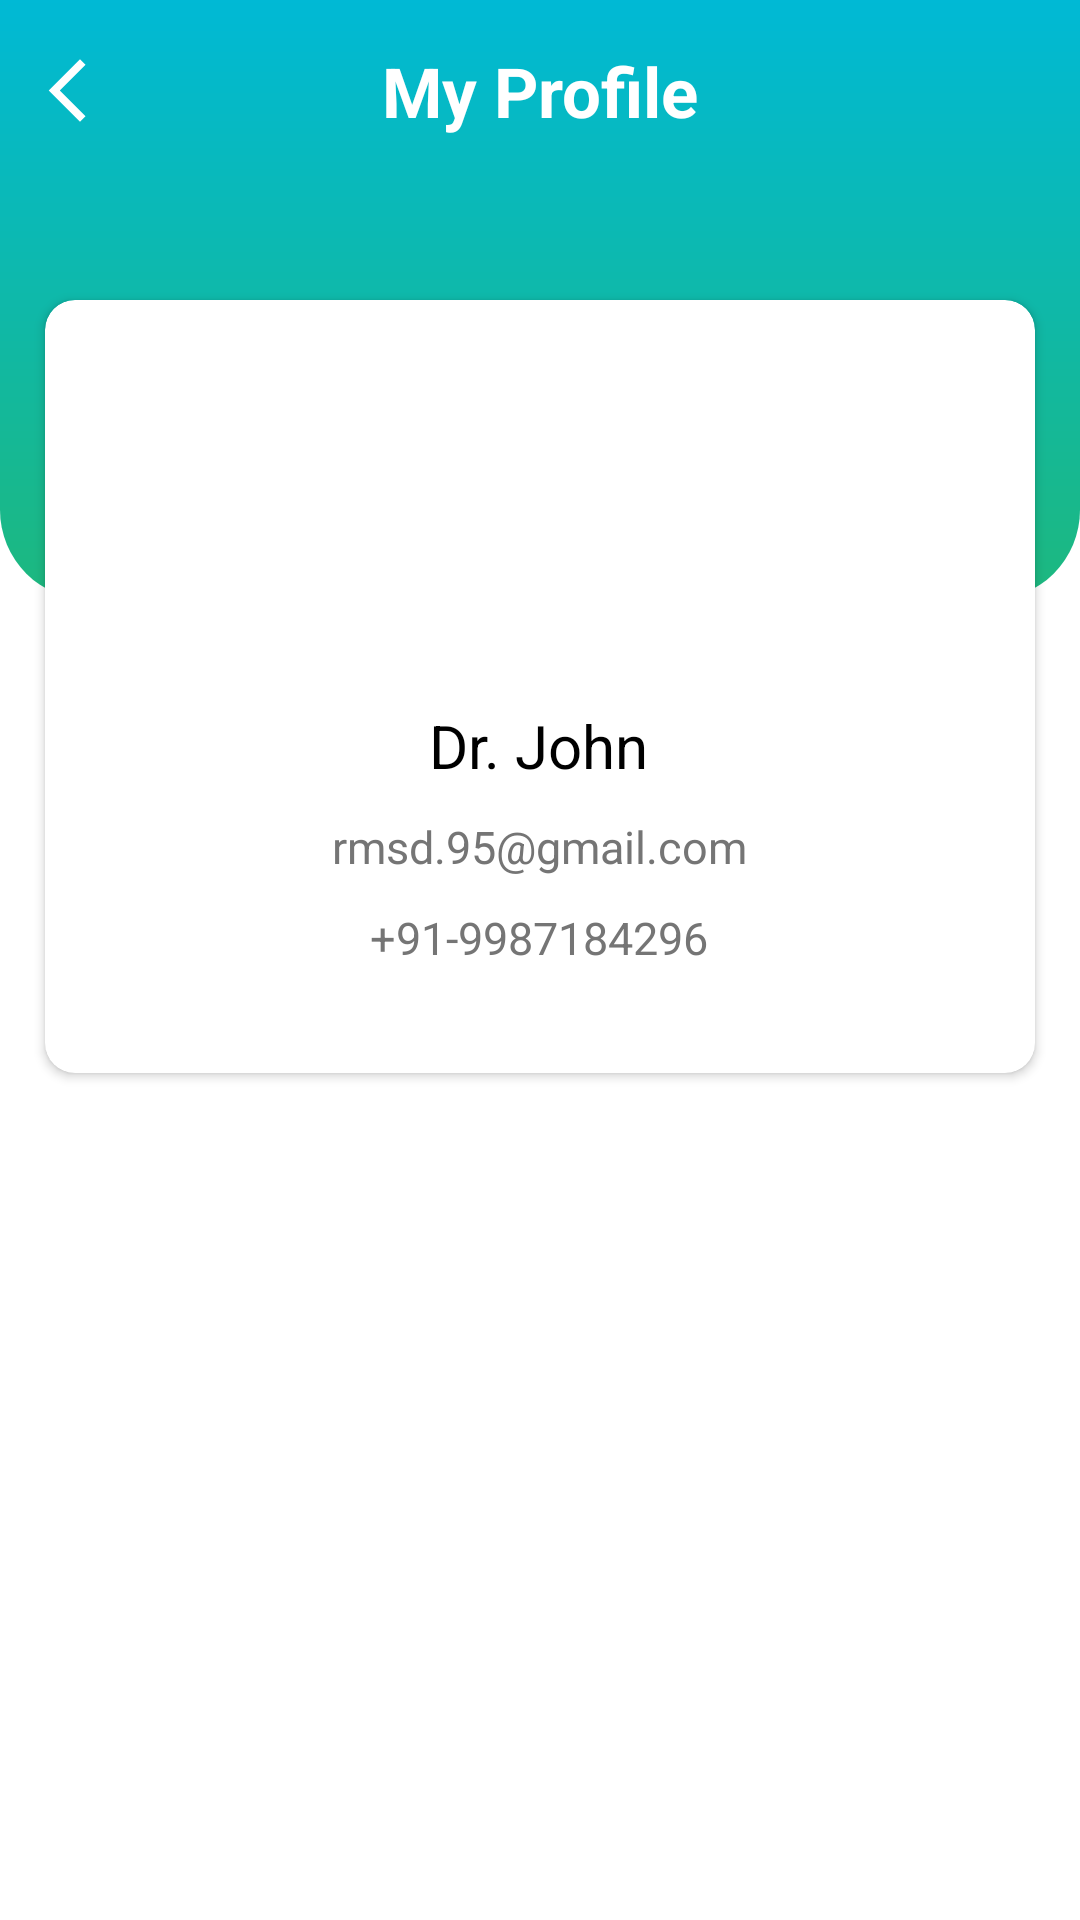

Where icons sit on this 1080px×1920px app screen, as (x1, y1, x2, y2):
back: (49, 59, 86, 122)
